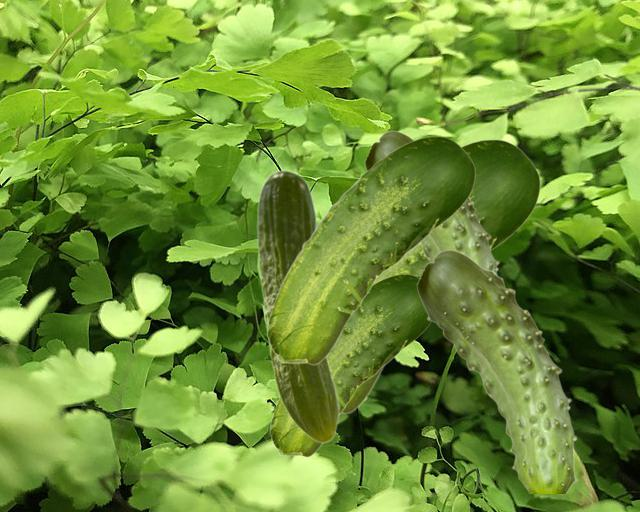cucumber: (342, 139, 539, 413), (266, 136, 474, 364), (416, 249, 577, 492), (269, 274, 431, 456), (256, 169, 339, 443), (364, 130, 500, 273)
